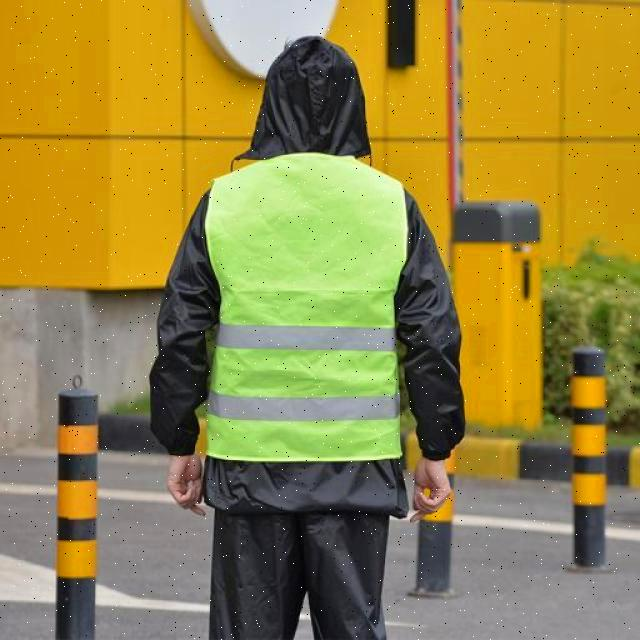Vest: (204, 154, 405, 473)
